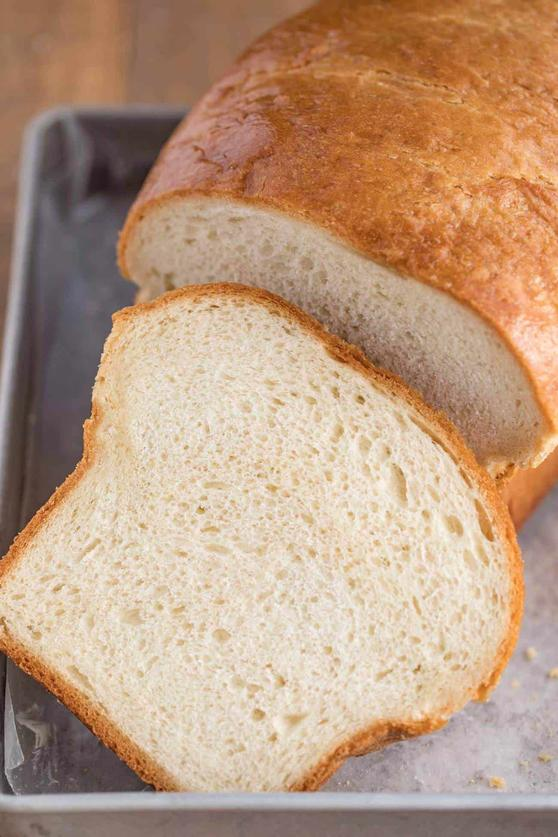white_bread: (117, 4, 558, 501)
